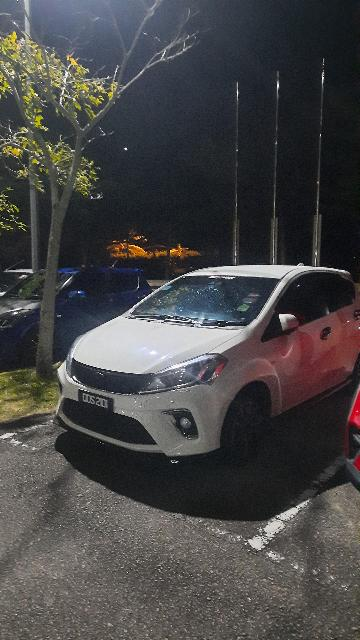License_Plate: (79, 389, 117, 416)
car: (55, 259, 360, 465)
